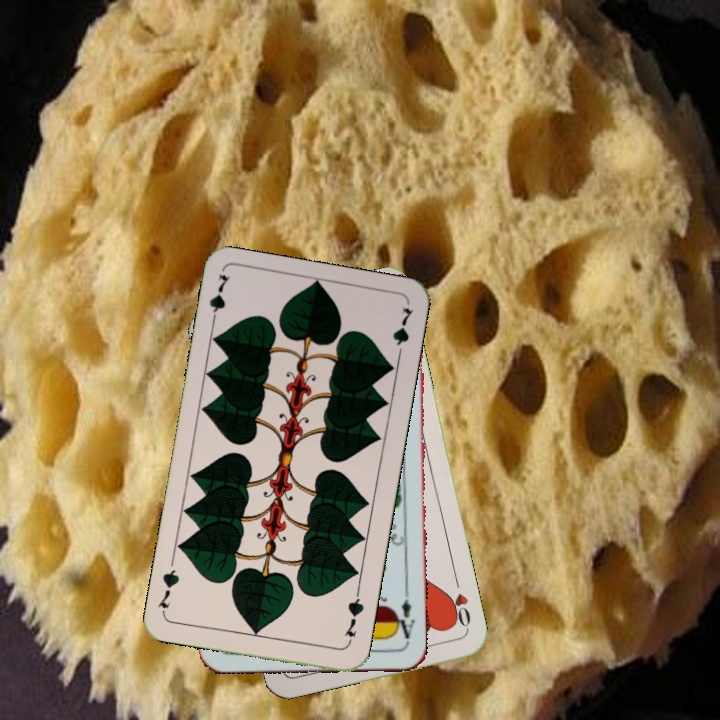EA: (391, 588, 418, 647)
G7: (205, 270, 233, 329), (340, 588, 367, 647)
HO: (443, 574, 474, 632)
